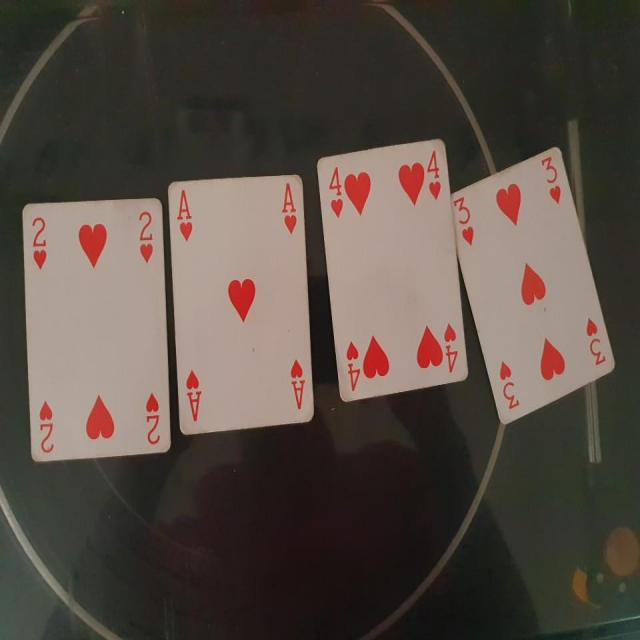2 Hearts: (17, 188, 176, 478)
3 Hearts: (448, 140, 621, 430)
4 Hearts: (312, 124, 473, 414)
A Hearts: (165, 170, 320, 445)
